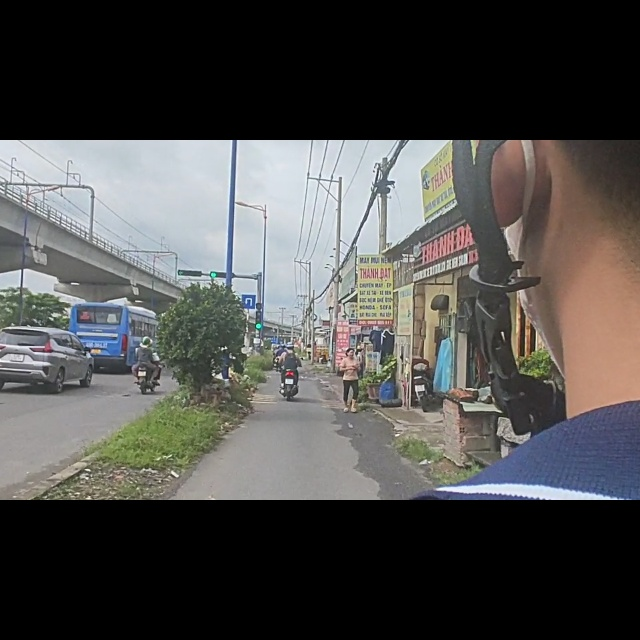bien_chi_dan: (241, 270, 257, 302)
